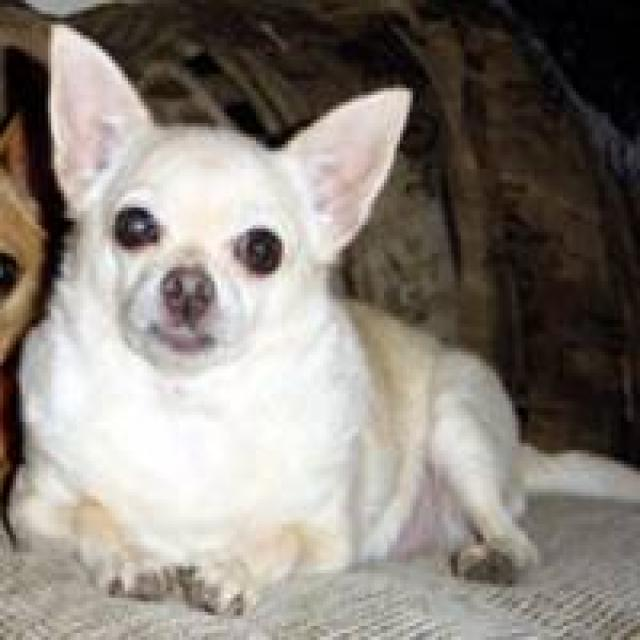dog-chihuahua: (3, 11, 634, 622)
